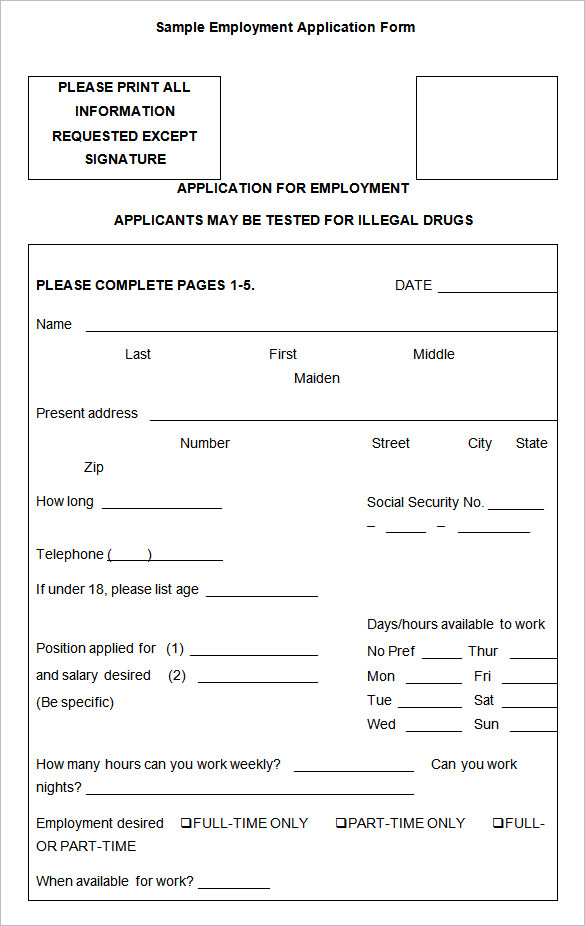table: (29, 245, 556, 901)
